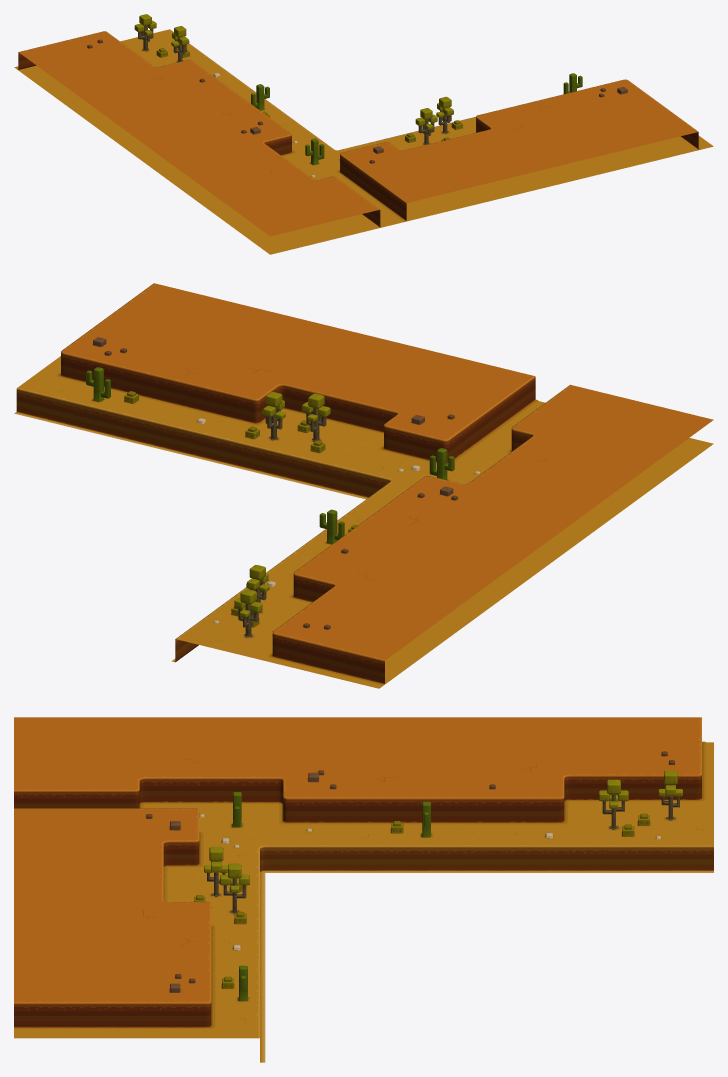
The model's file is C_mountain1_out_RU.fbx.
3 views of the same model, one above another, from view 1: azimuth 30°, elevation 25°; view 2: azimuth 150°, elevation 25°; view 3: azimuth 270°, elevation 25° (orthographic). The views are drawn at different scales.
Parts seen in each view (by area): view 1: C_mountain1_out_RU; view 2: C_mountain1_out_RU; view 3: C_mountain1_out_RU.
Part boxes in pixels (x1,y1,x2,y2): C_mountain1_out_RU: [14, 14, 713, 254]; C_mountain1_out_RU: [14, 283, 713, 688]; C_mountain1_out_RU: [14, 717, 713, 1062].
Bounding box in the file's own units: 117 × 13.14 × 117.
